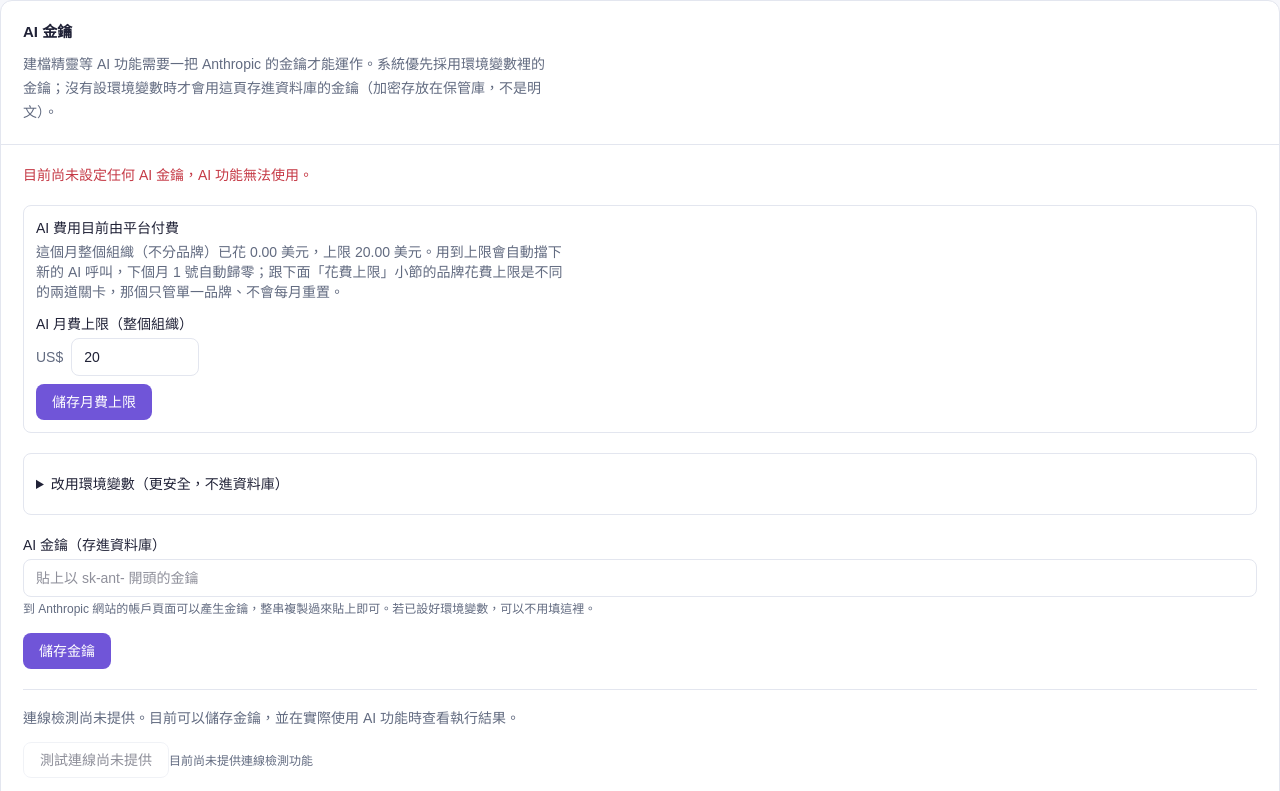
Test: successful settings saves remain acknowledged until editing › ApiKeySection acknowledges a successful save
Click the button "儲存月費上限": (94, 402) [36,384,152,420]
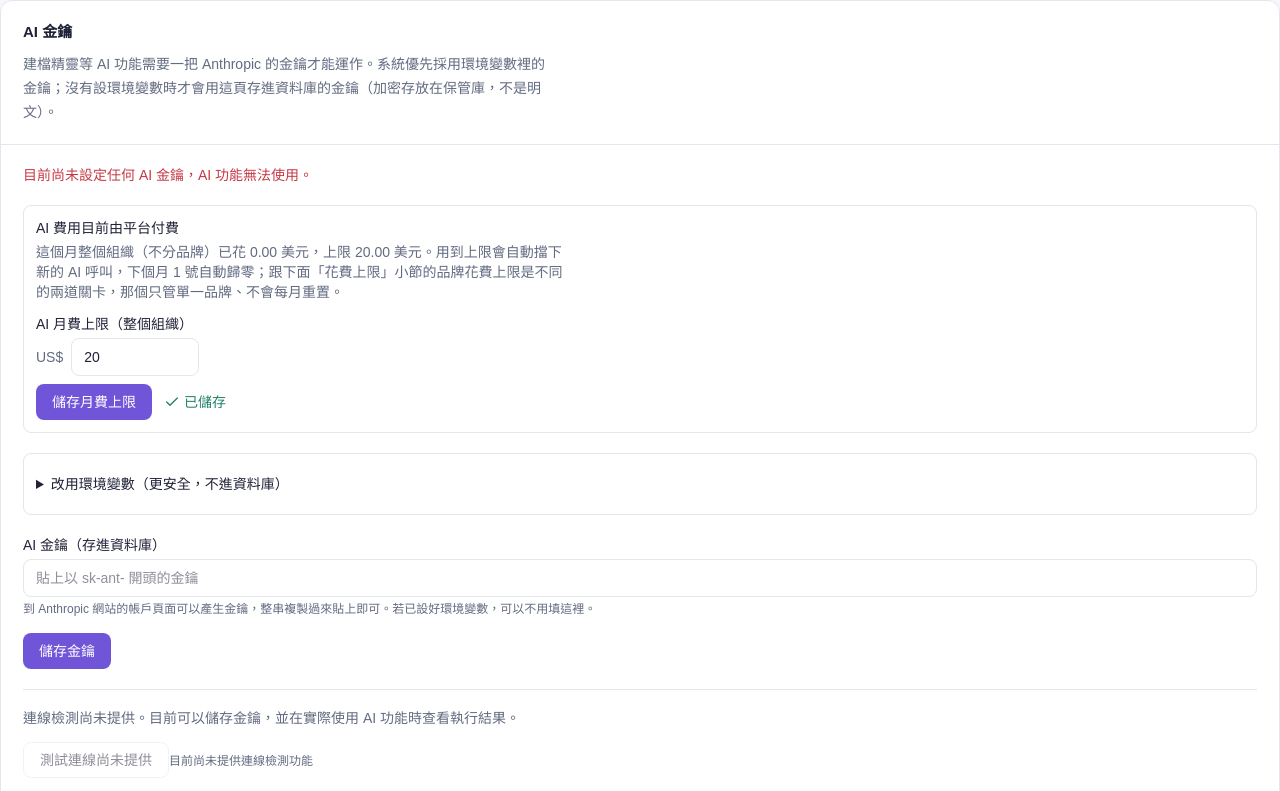
Expected: the text "已儲存" is shown, [164,392,226,412]
In the field labelled "AI 月費上限（整個組織）": (135, 356) [71,338,199,376], type "1"
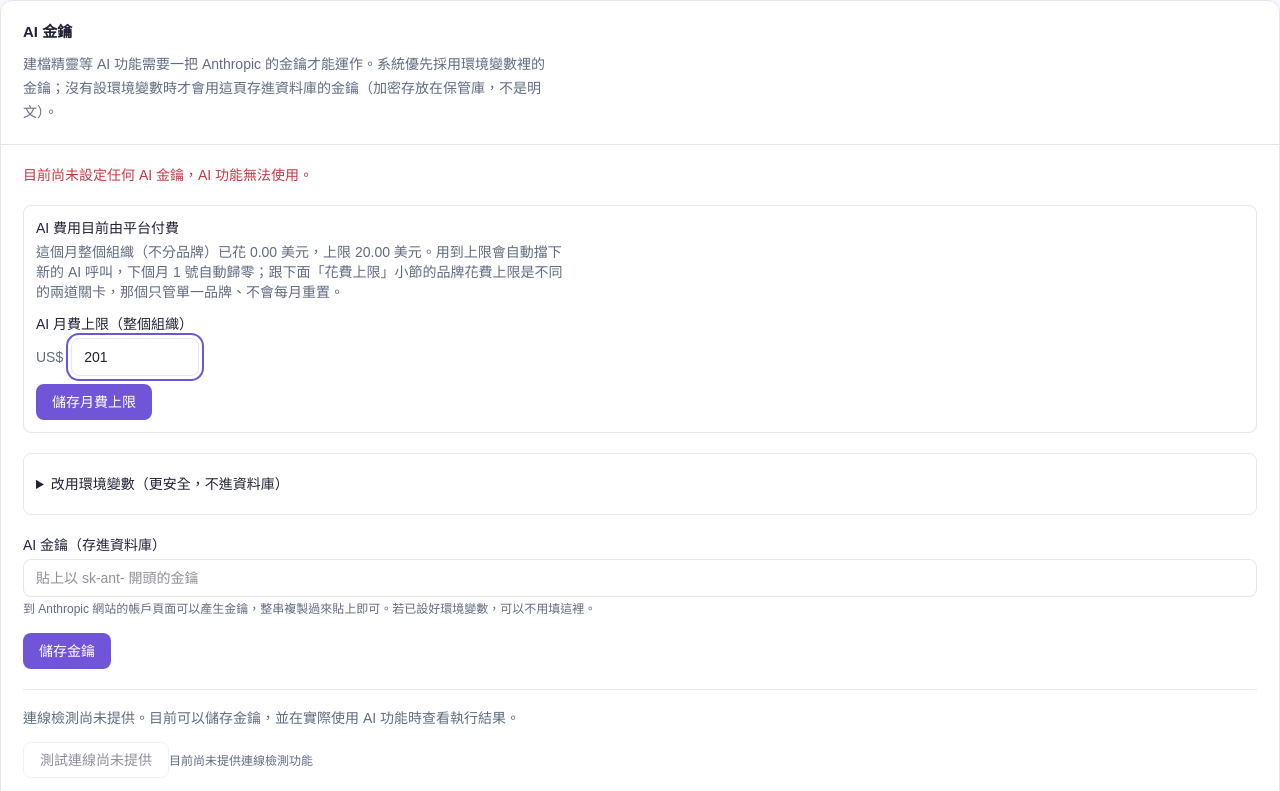
Expected: the text "已儲存" is gone
